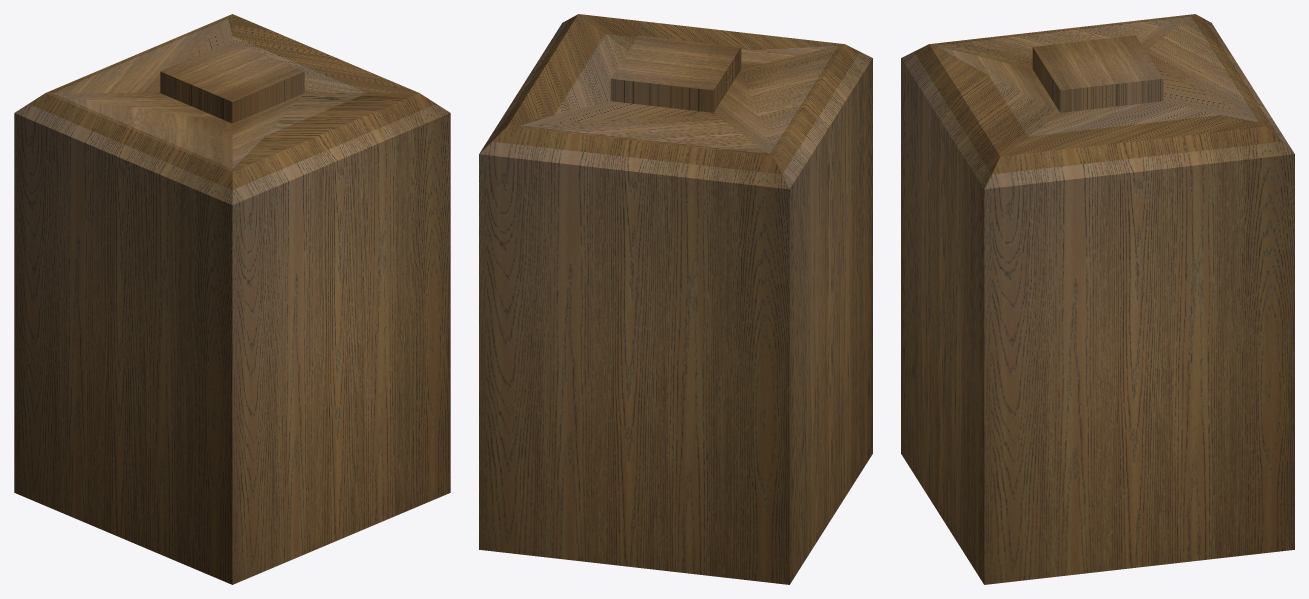
File: Obstacle_020.obj
The picture shows the model from 3 angles, left to right: view 1: azimuth 30°, elevation 25°; view 2: azimuth 150°, elevation 25°; view 3: azimuth 270°, elevation 25°; orthographic projection. The views are drawn at different scales.
Visible parts, largest first — view 1: Box120; view 2: Box120; view 3: Box120.
Boxes of the visible parts, x1=… form: Box120: x1=14, y1=14, x2=450, y2=584; Box120: x1=479, y1=14, x2=872, y2=584; Box120: x1=901, y1=14, x2=1294, y2=584.
Size of the model in its own units: 33.75 by 41.5 by 33.75.
